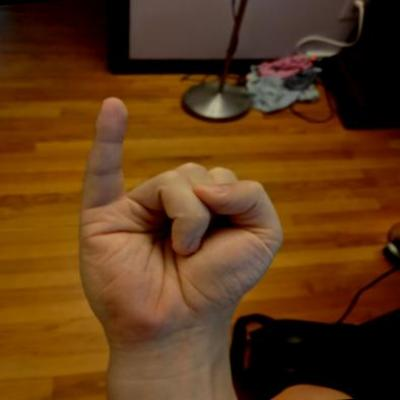hand: (62, 80, 294, 354)
